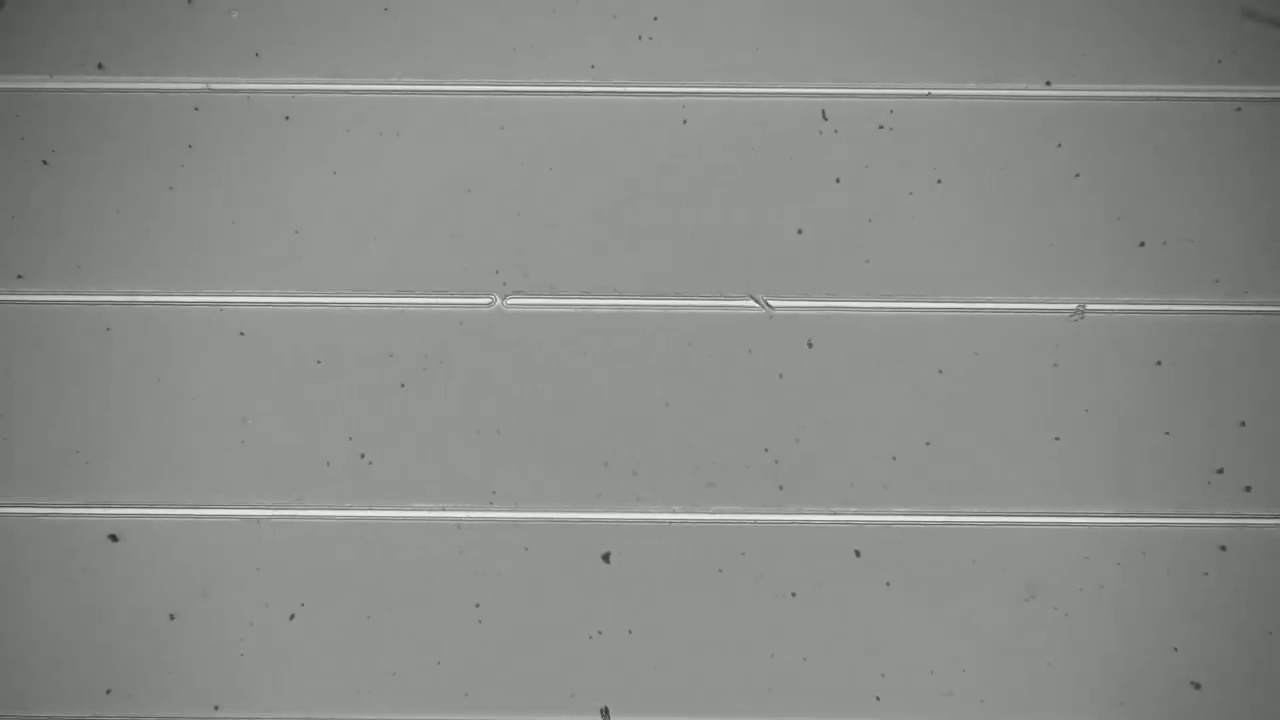open: (477, 280, 518, 322), (742, 284, 784, 322)
stains_enbedded: (1058, 290, 1101, 331)
